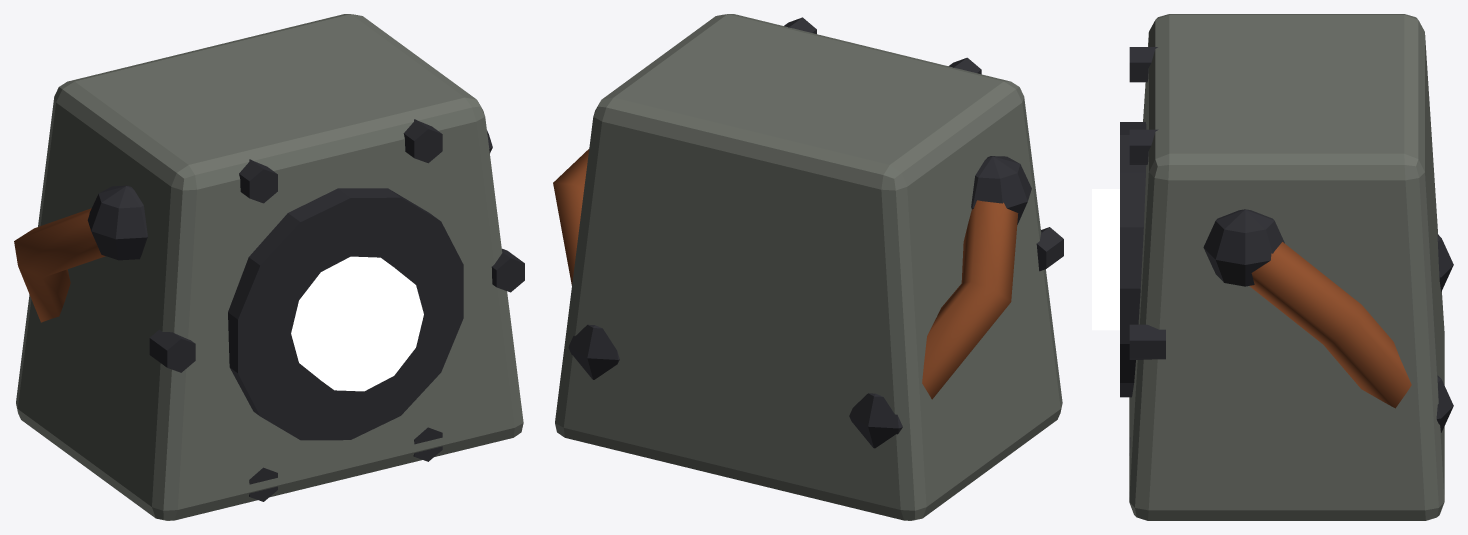
The model's file is co_mag.glb.
3 renders of one model, left to right at view 1: azimuth 30°, elevation 25°; view 2: azimuth 150°, elevation 25°; view 3: azimuth 270°, elevation 25°, orthographic. The views are drawn at different scales.
Parts seen in each view (by area): view 1: co_mag; view 2: co_mag; view 3: co_mag.
Part boxes in pixels (<box>): co_mag: <box>14,14,524,520</box>; co_mag: <box>553,14,1063,520</box>; co_mag: <box>1092,14,1453,520</box>.
Bounding box in the file's own units: 0.167 × 0.1288 × 0.1118.
